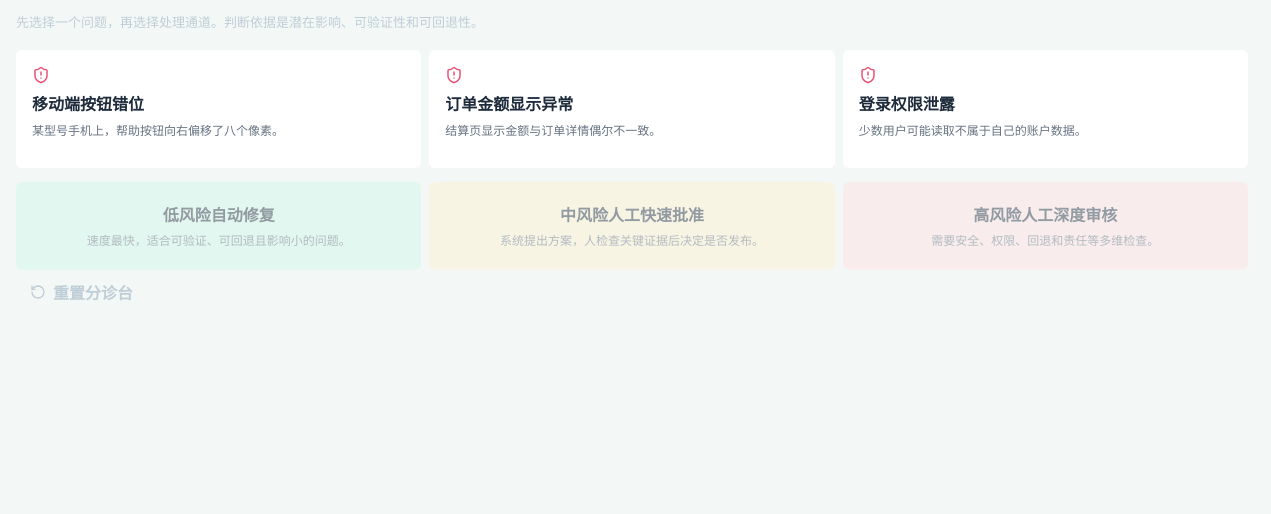
it: BugTriageLab › routes a sensitive issue to deep review and explains the trade-off
Click the button with aria-label "选择登录权限泄露".
click(907, 105)  # box [843,50,1248,168]
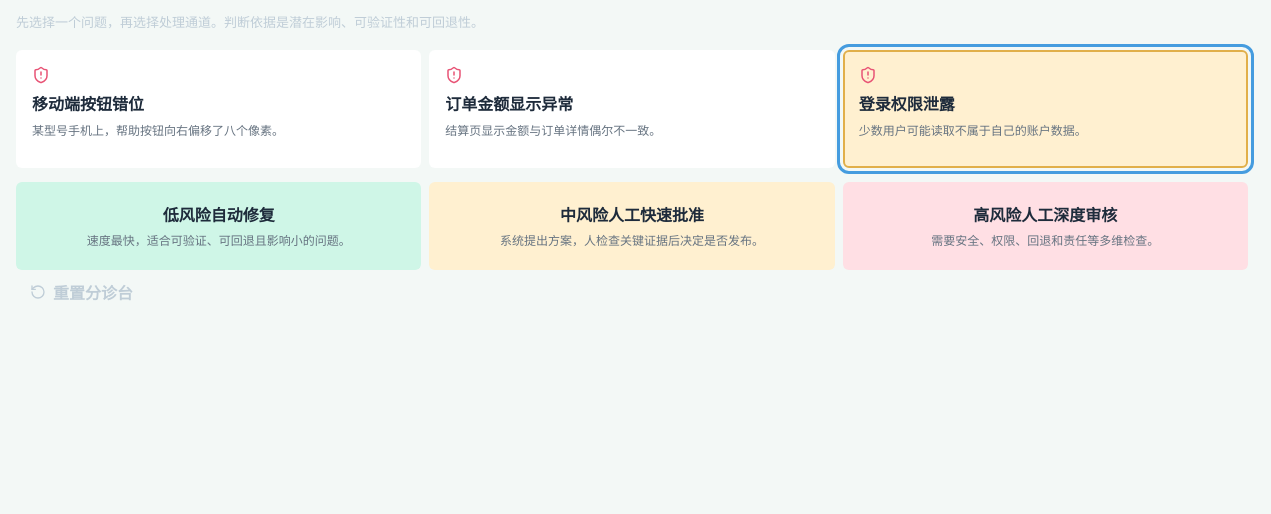
Click the button with aria-label "送入高风险人工深度审核".
click(1045, 226)  # box [843,182,1248,270]
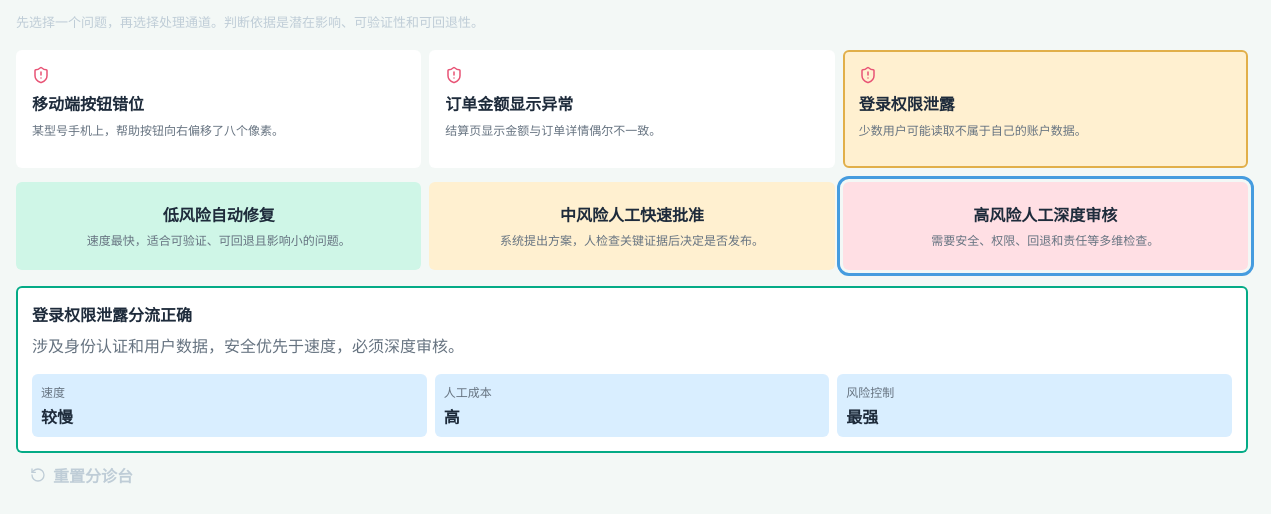
Expected: the button "重置分诊台" is shown, [16,453,147,497]
Expected: the heading "登录权限泄露分流正确" is shown, [32,307,192,324]
Expected: the text "涉及身份认证和用户数据，安全优先于速度，必须深度审核。" is shown, [32,338,464,355]
